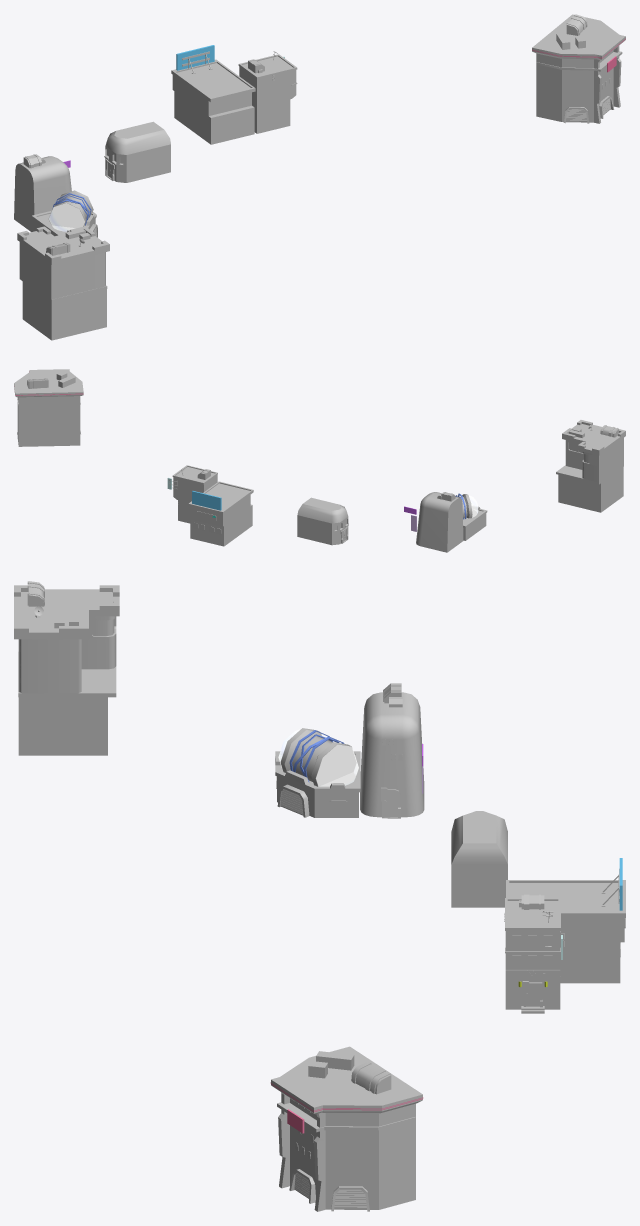
File: Plaza_06_Buildings.fbx
3 renders of one model, top to bottom at view 1: azimuth 30°, elevation 25°; view 2: azimuth 150°, elevation 25°; view 3: azimuth 270°, elevation 25°, orthographic. The views are drawn at different scales.
Visible parts, largest first — view 1: polySurface312, glass; view 2: polySurface312; view 3: polySurface312, glass.
Part boxes in pixels (left/top/right/bottom): polySurface312: left=14, top=14, right=625, bottom=340; glass: left=49, top=203, right=84, bottom=231; polySurface312: left=14, top=369, right=625, bottom=552; polySurface312: left=14, top=581, right=625, bottom=1211; glass: left=278, top=728, right=358, bottom=786.
Bounding box in the file's own units: 275 × 34.85 × 142.
